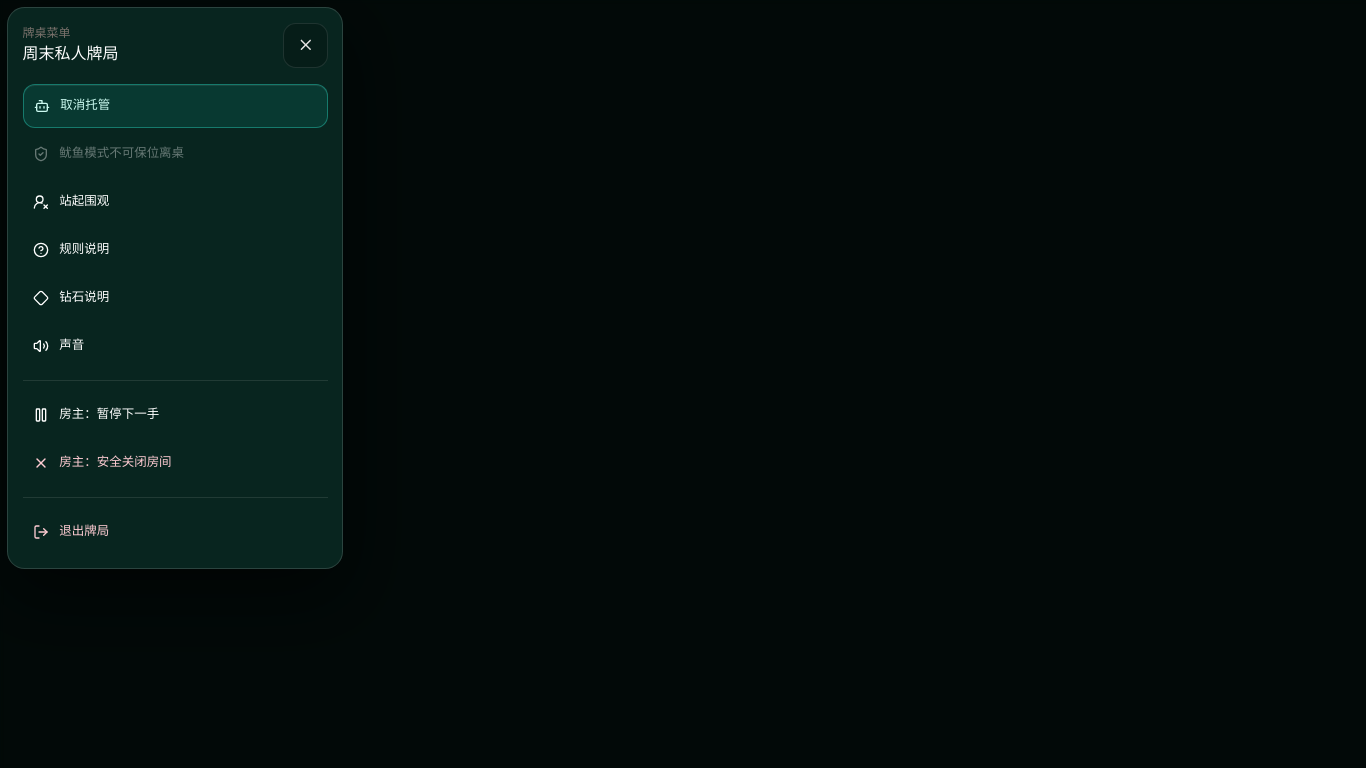
mobile table product components › enables squid rules, disables reserve-away, and exposes persistent trusteeship as a pressed toggle
Click the button "取消托管": [85, 105] box [23,84,328,128]
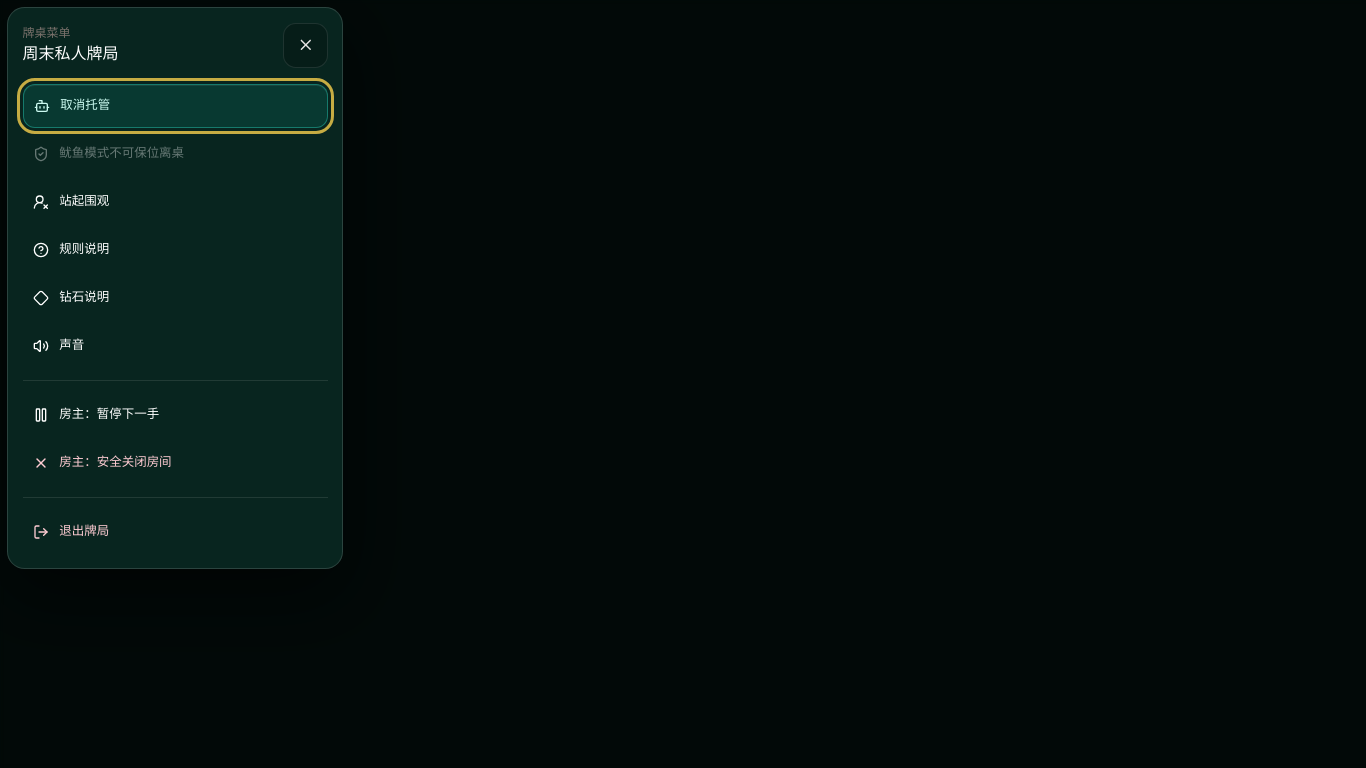
expect the button "鱿鱼模式不可保位离桌" is disabled: met, box [23,132,328,176]
Click the button "规则说明": [84, 249] box [23,228,328,272]
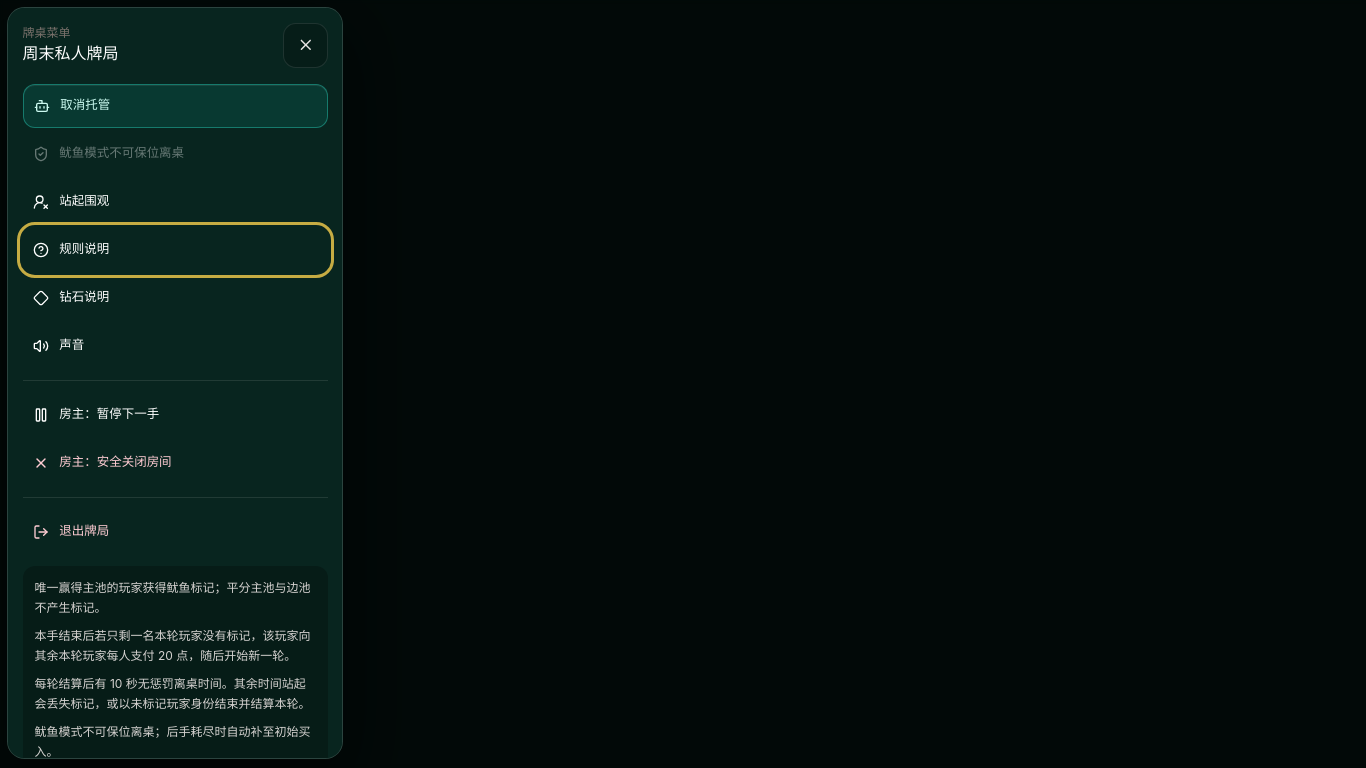
expect the text "唯一赢得主池的玩家获得鱿鱼标记；平分主池与边池不产生标记。" is shown: met, box [35,578,316,618]
expect the text "本手结束后若只剩一名本轮玩家没有标记，该玩家向其余本轮玩家每人支付 20 点，随后开始新一轮。" is shown: met, box [35,626,316,666]
